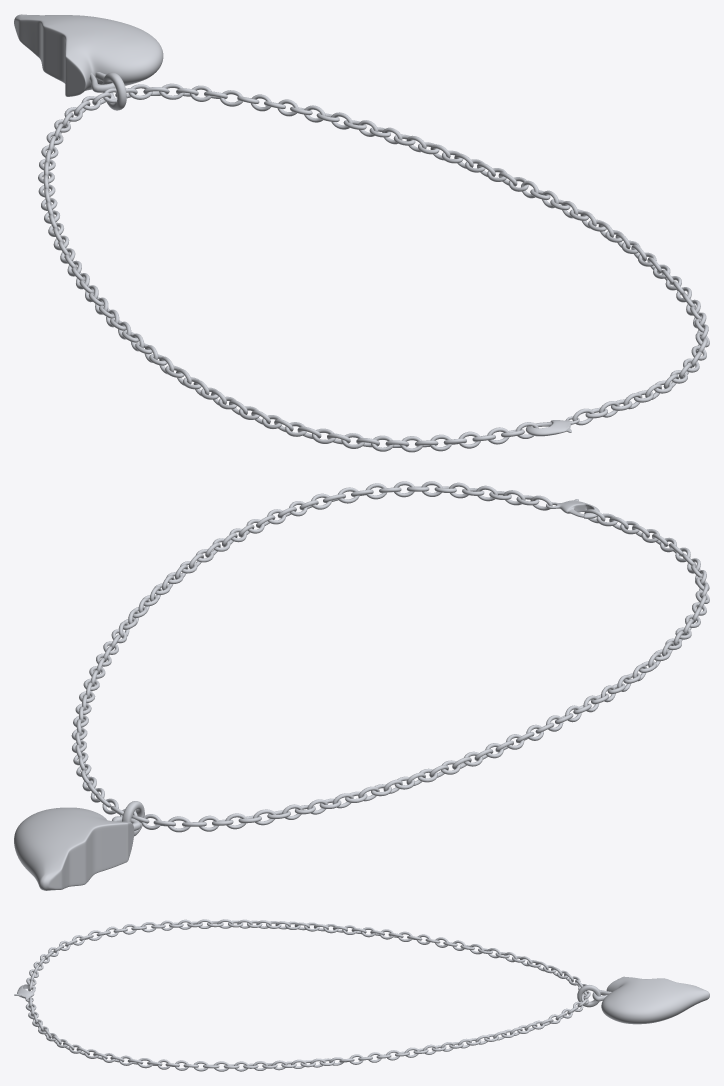
Rendered from Collar1.glb.
The picture shows the model from 3 angles, top to bottom: view 1: azimuth 30°, elevation 25°; view 2: azimuth 150°, elevation 25°; view 3: azimuth 270°, elevation 25°; orthographic projection. The views are drawn at different scales.
Visible parts, largest first — view 1: 11791_Pendant_l3; view 2: 11791_Pendant_l3; view 3: 11791_Pendant_l3.
Boxes of the visible parts, left/top/right/bottom form: 11791_Pendant_l3: left=14, top=14, right=709, bottom=452; 11791_Pendant_l3: left=14, top=481, right=709, bottom=890; 11791_Pendant_l3: left=14, top=919, right=709, bottom=1071.
Size of the model in its own units: 14.77 by 1.45 by 29.57.
1 material, 1 textured.
